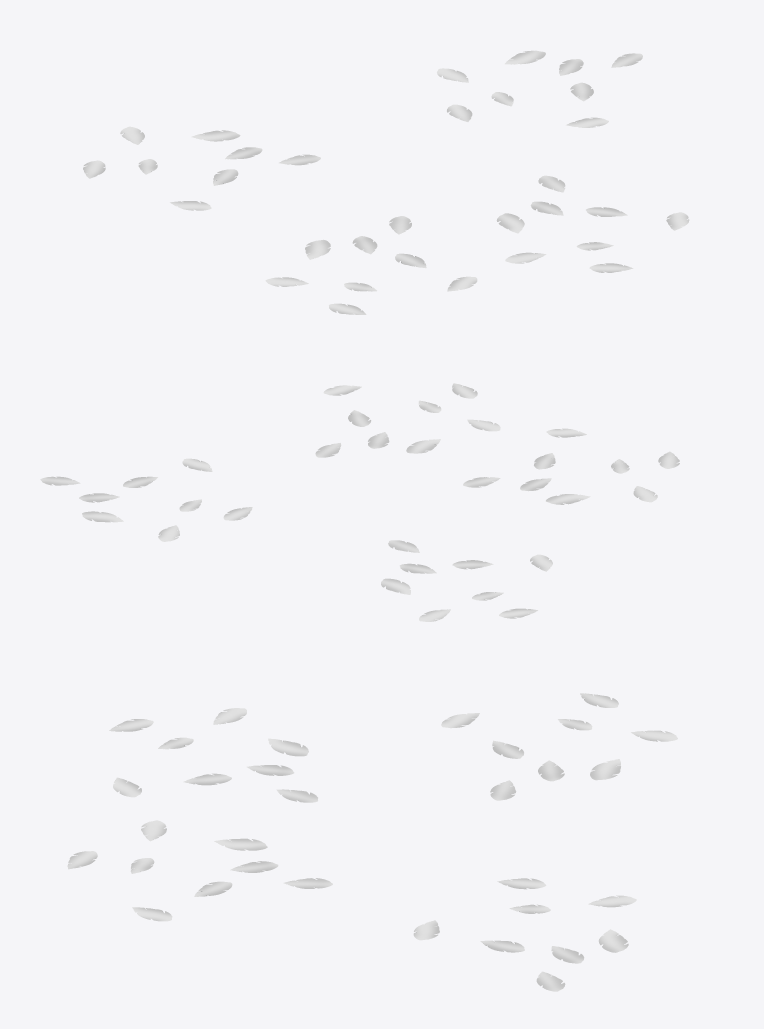
File: Decal_A.fbx
3 renders of one model, top to bottom at view 1: azimuth 30°, elevation 25°; view 2: azimuth 150°, elevation 25°; view 3: azimuth 270°, elevation 25°, orthographic. The views are drawn at different scales.
Visible parts, largest first — view 1: Decal_A; view 2: Decal_A; view 3: Decal_A.
Part boxes in pixels (bbox=[...]): Decal_A: bbox=[83, 50, 689, 314]; Decal_A: bbox=[40, 383, 679, 621]; Decal_A: bbox=[67, 693, 677, 991].
Size of the model in its own units: 607 by 0.9998 by 561.
2 materials, 2 textured.
